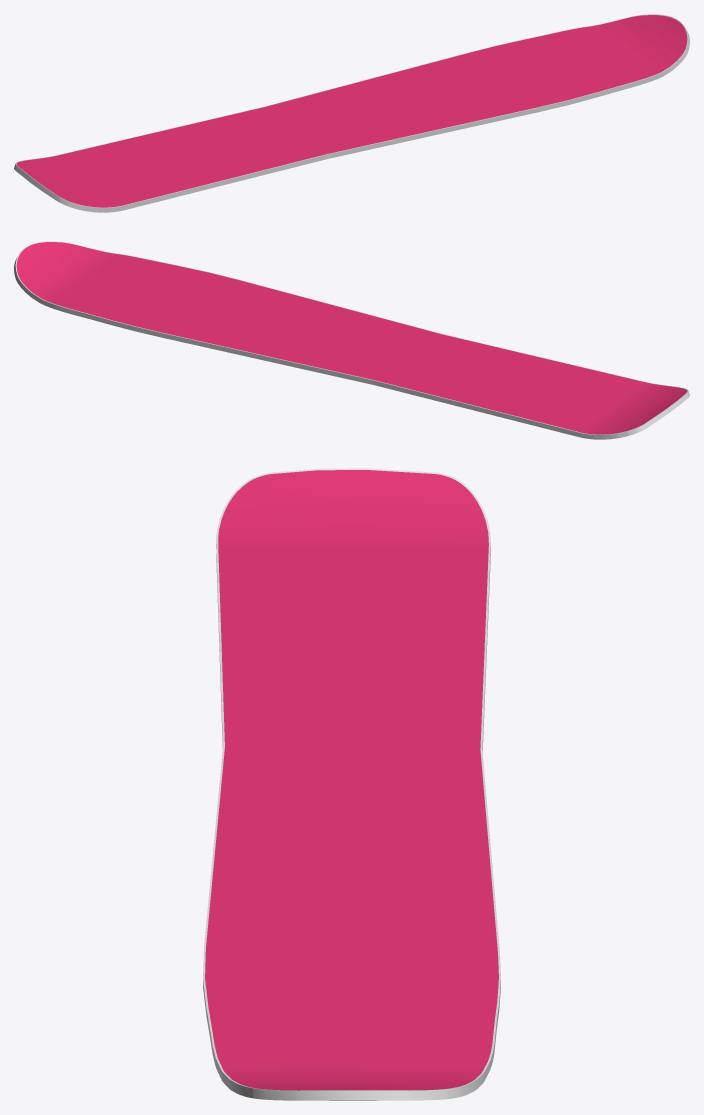
The model's file is board_tapered_zero.gltf.
3 renders of one model, top to bottom at view 1: azimuth 30°, elevation 25°; view 2: azimuth 150°, elevation 25°; view 3: azimuth 270°, elevation 25°, orthographic. The views are drawn at different scales.
Parts seen in each view (by area): view 1: board-top, board-edge; view 2: board-top, board-edge; view 3: board-top, board-edge.
Boxes of the visible parts, x1,y1,x2,y2 form: board-top: (16, 15, 687, 207); board-edge: (14, 14, 689, 212); board-top: (16, 242, 687, 434); board-edge: (14, 241, 689, 439); board-top: (205, 470, 498, 1090); board-edge: (203, 468, 500, 1100).
Bounding box in the file's own units: 1.47 × 0.0449 × 0.2932.
